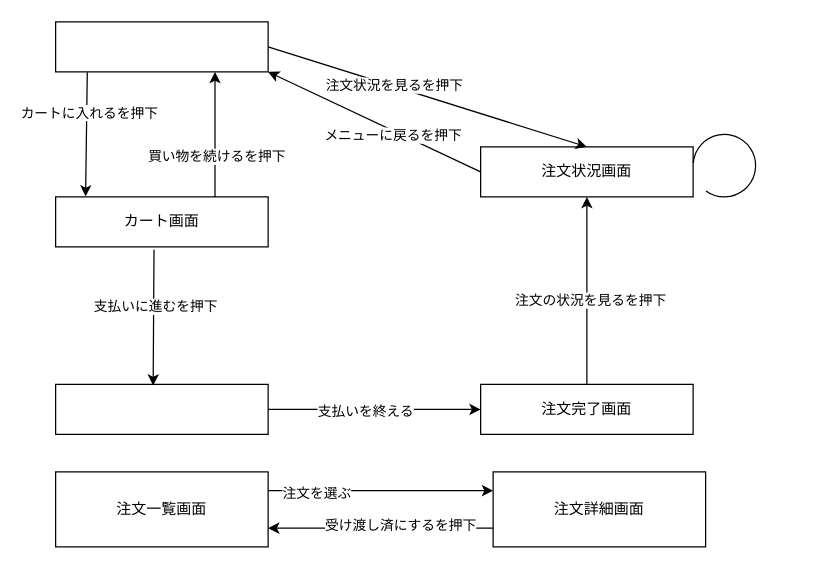
Some shapes in this 821 by 569 pixel diagram are drawn without their labels. The shapes that lost their labels are listed below. From the top down, each one's box as (x1, y1, x2, y2) in pixels, then its label:
(54, 21, 268, 72): メニュー画面
(692, 133, 756, 197): 注文を取り消すを押下
(54, 383, 268, 434): 支払い完了画面
